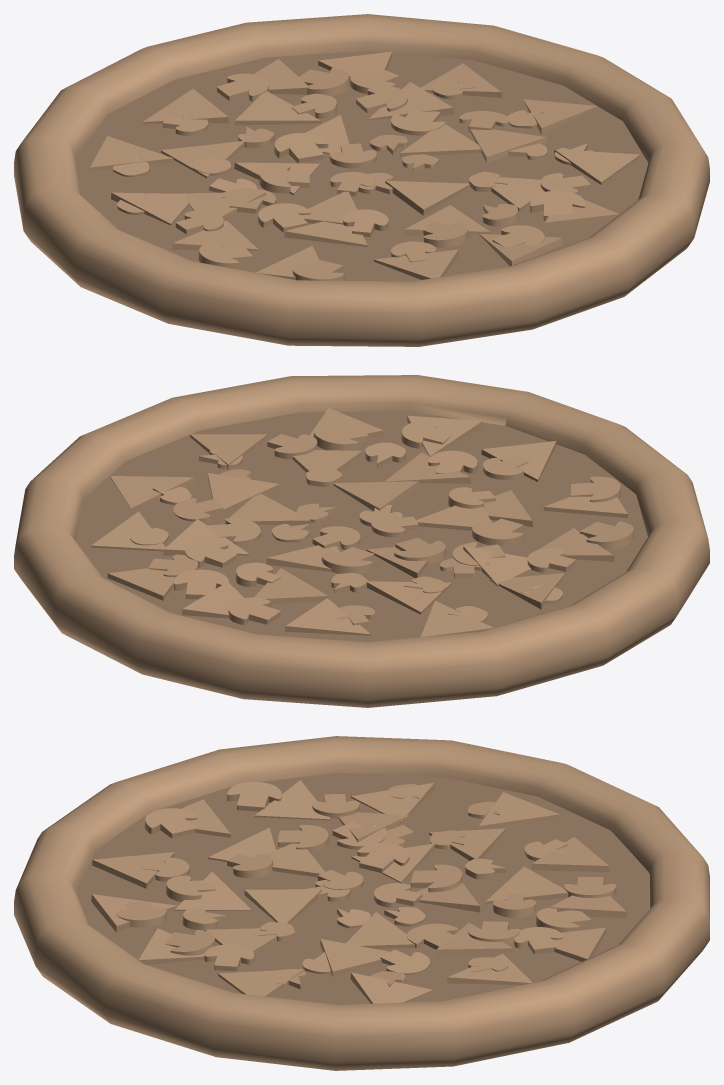
The model's file is Pizzas.glb.
3 renders of one model, top to bottom at view 1: azimuth 30°, elevation 25°; view 2: azimuth 150°, elevation 25°; view 3: azimuth 270°, elevation 25°, orthographic.
Parts seen in each view (by area): view 1: Pizza, Cheese, Ham (×26), Mushroom (×29); view 2: Pizza, Cheese, Ham (×26), Mushroom (×29); view 3: Pizza, Cheese, Ham (×26), Mushroom (×27).
Part boxes in pixels (bbox=[...]): Pizza: bbox=[14, 14, 709, 346]; Cheese: bbox=[75, 50, 648, 281]; Ham (×26): bbox=[90, 51, 640, 279]; Mushroom (×29): bbox=[162, 67, 590, 280]; Pizza: bbox=[14, 375, 709, 707]; Cheese: bbox=[75, 411, 647, 642]; Ham (×26): bbox=[91, 408, 627, 637]; Mushroom (×29): bbox=[130, 421, 634, 627]; Pizza: bbox=[14, 736, 709, 1070]; Cheese: bbox=[76, 772, 648, 1004]; Ham (×26): bbox=[91, 780, 626, 1003]; Mushroom (×27): bbox=[116, 781, 616, 974].
Bounding box in the file's own units: 0.3612 × 0.0375 × 0.3598.
